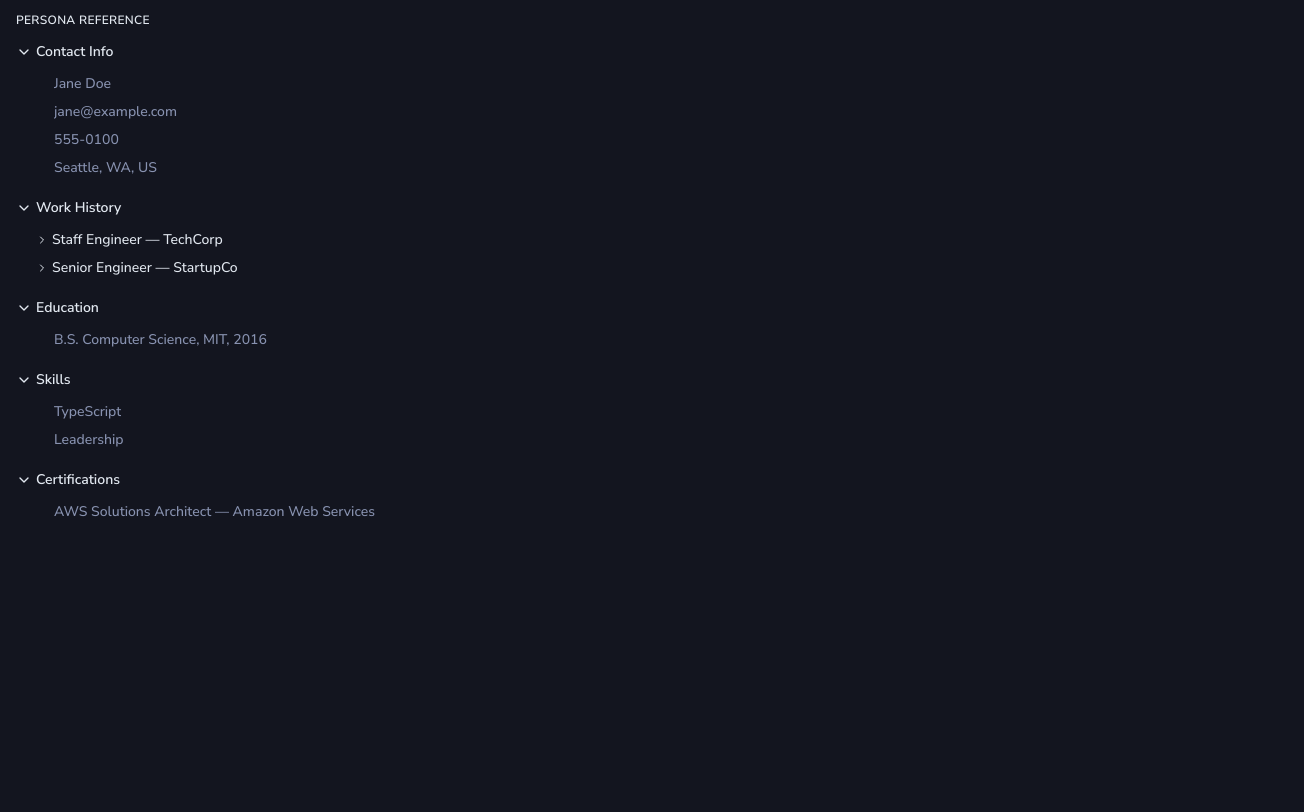
Test case: PersonaReferencePanel › work history section › shows bullets when job is expanded
Click the button "Staff Engineer — TechCorp" at [97, 240], box [32,228,1292,252]
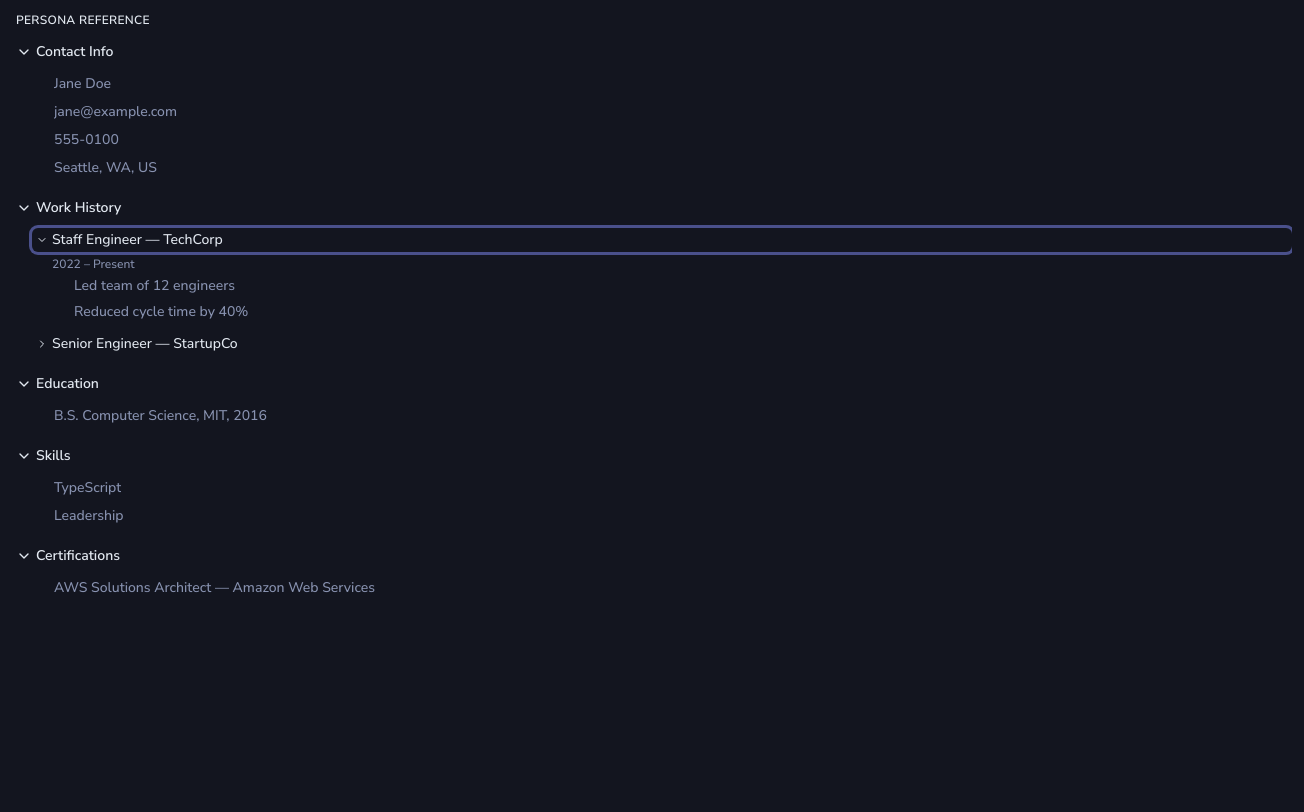
Now the text "Led team of 12 engineers" is shown, box [74,276,235,296]
Now the text "Reduced cycle time by 40%" is shown, box [74,302,248,322]
